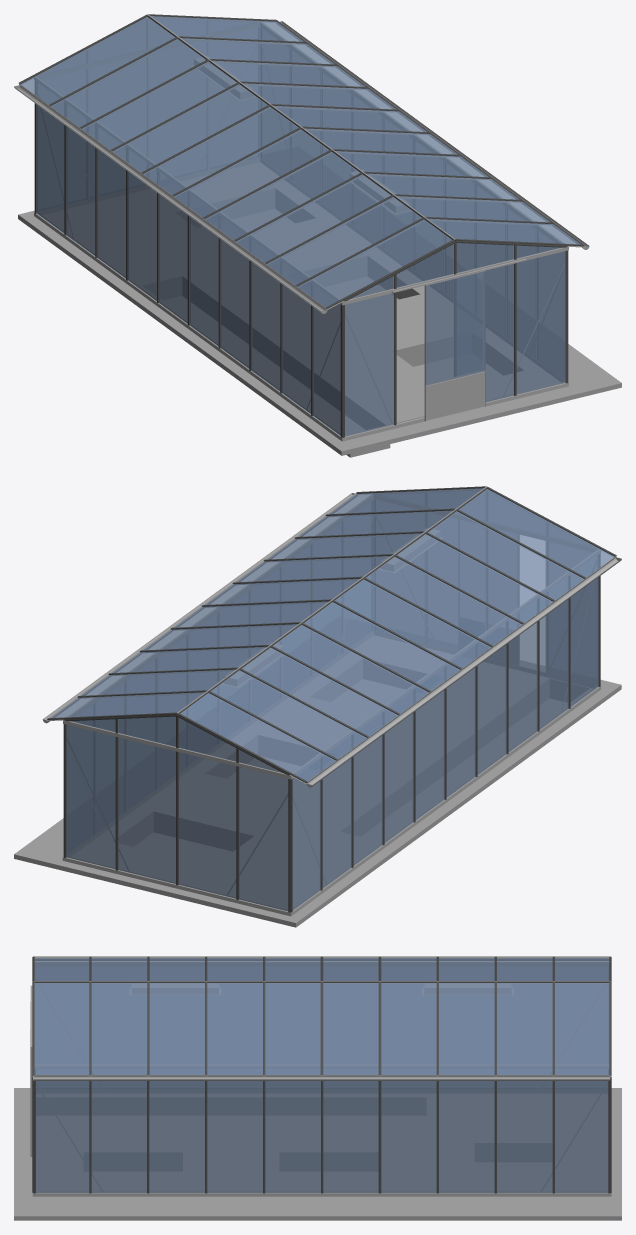
File: Greenhouse.fbx
3 renders of one model, top to bottom at view 1: azimuth 30°, elevation 25°; view 2: azimuth 150°, elevation 25°; view 3: azimuth 270°, elevation 25°, orthographic. The views are drawn at different scales.
Parts seen in each view (by area): view 1: Greenhouse; view 2: Greenhouse; view 3: Greenhouse.
Boxes of the visible parts, x1,y1,x2,y2 form: Greenhouse: (14,14,621,457); Greenhouse: (14,486,621,927); Greenhouse: (14,956,621,1220).
Bounding box in the file's own units: 429 × 275 × 827.
